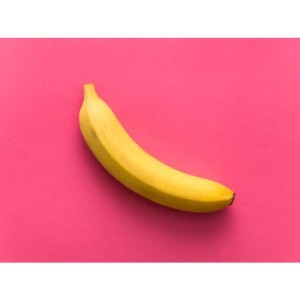banana_brain food: (88, 108, 219, 215)
